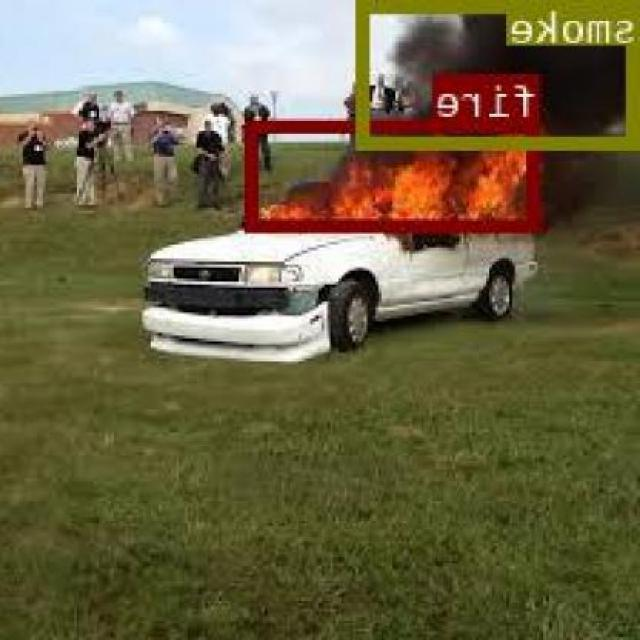Fire: (249, 117, 542, 230)
Smoke: (362, 0, 640, 147)
